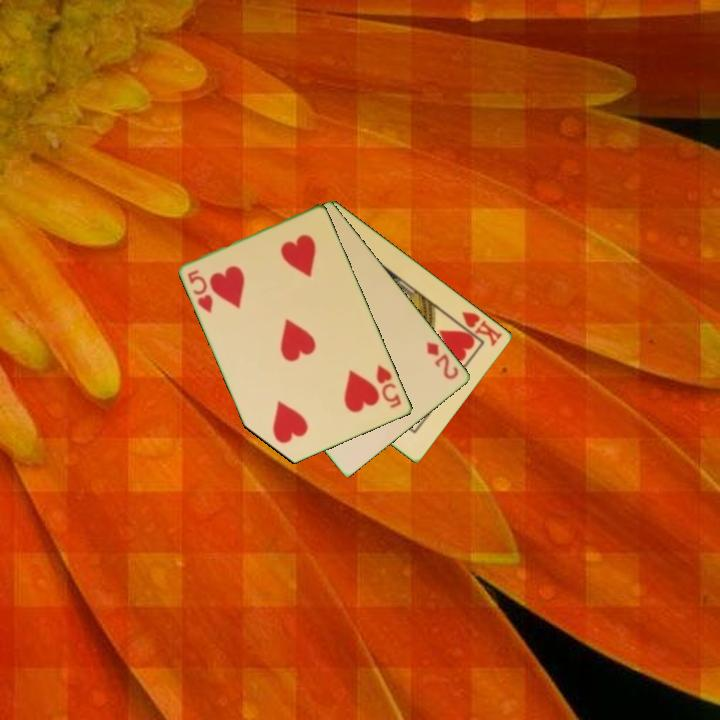2d: (423, 338, 462, 383)
5h: (373, 361, 405, 411), (184, 266, 216, 316)
Kh: (450, 308, 506, 349)
